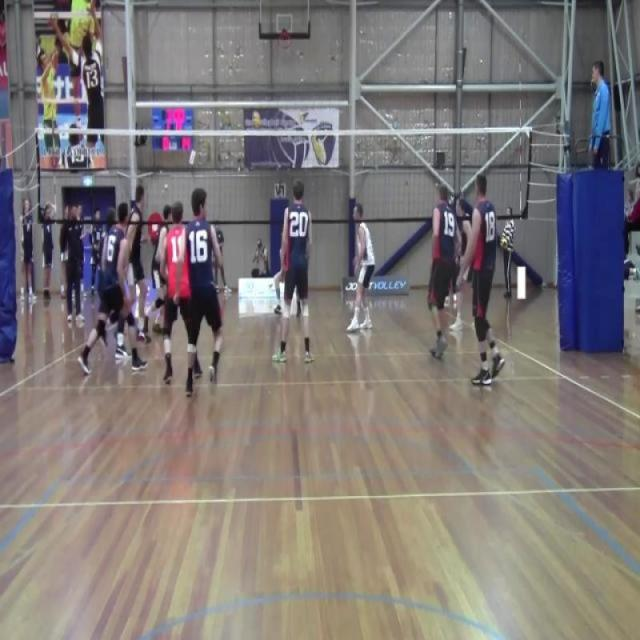volleyball: (250, 108, 262, 131)
